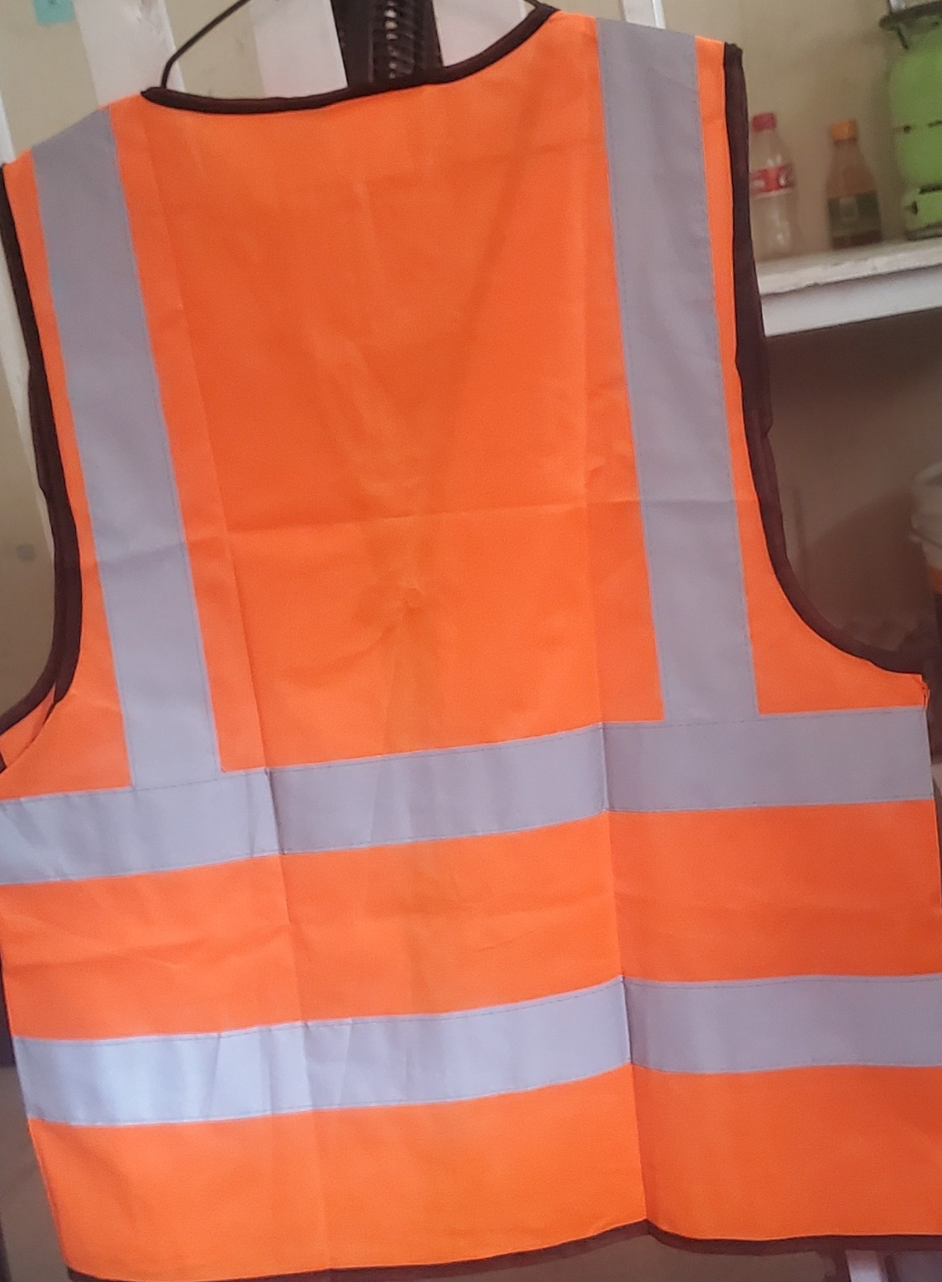vest: (13, 27, 942, 1282)
